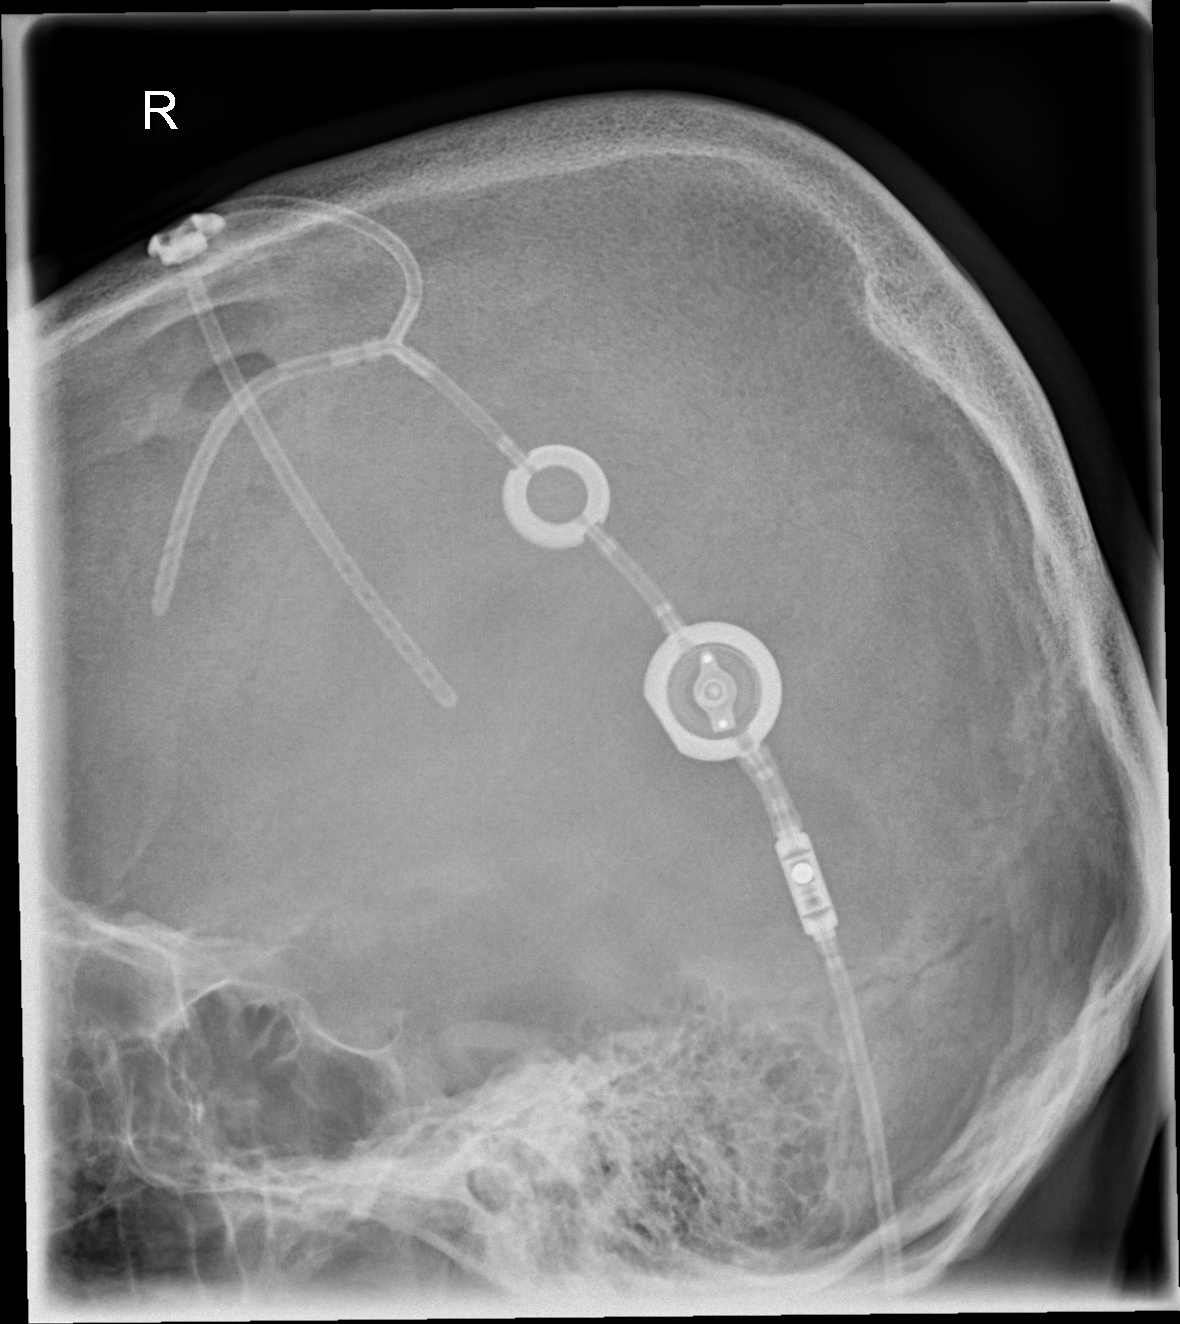proGAV: (633, 602, 794, 767)
proGAV Gravitationseinheit: (767, 811, 845, 953)
